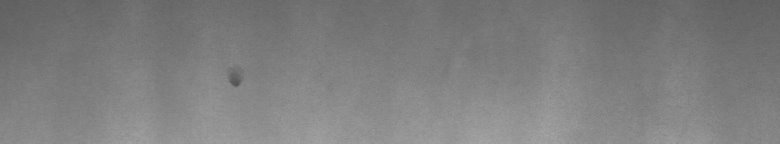fi: (228, 74, 243, 92)
